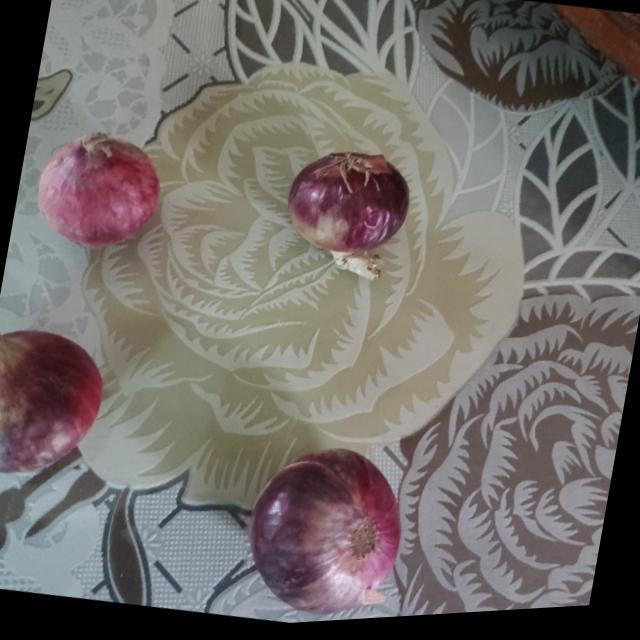onion: (241, 439, 418, 629), (29, 122, 168, 259), (0, 318, 107, 484), (282, 145, 418, 270)
